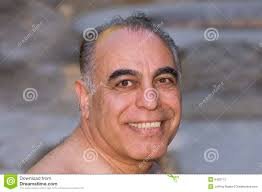middle_eastern_male: (97, 16, 183, 151)
